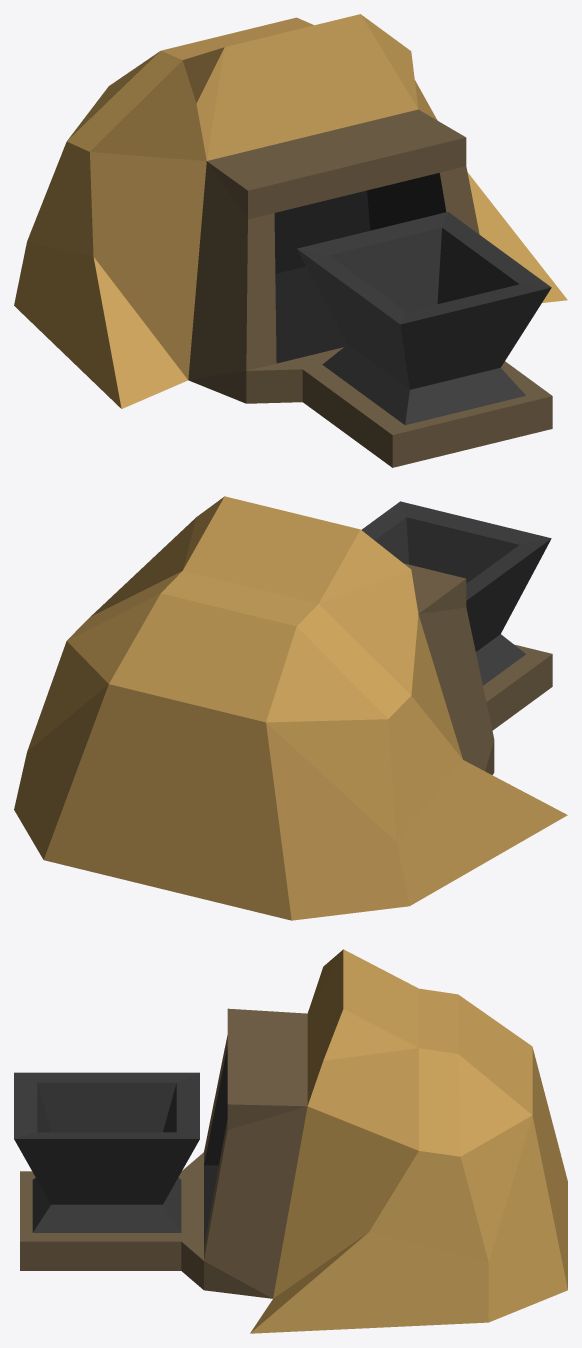
Rendered from GoldMine.fbx.
3 views of the same model, one above another, from view 1: azimuth 30°, elevation 25°; view 2: azimuth 150°, elevation 25°; view 3: azimuth 270°, elevation 25° (orthographic). The views are drawn at different scales.
Parts seen in each view (by area): view 1: GoldMine; view 2: GoldMine; view 3: GoldMine.
Part boxes in pixels (x1,y1,x2,y2): GoldMine: [14, 14, 567, 467]; GoldMine: [14, 496, 567, 920]; GoldMine: [14, 949, 567, 1333].
Size of the model in its own units: 1.85 by 1.13 by 2.21.
